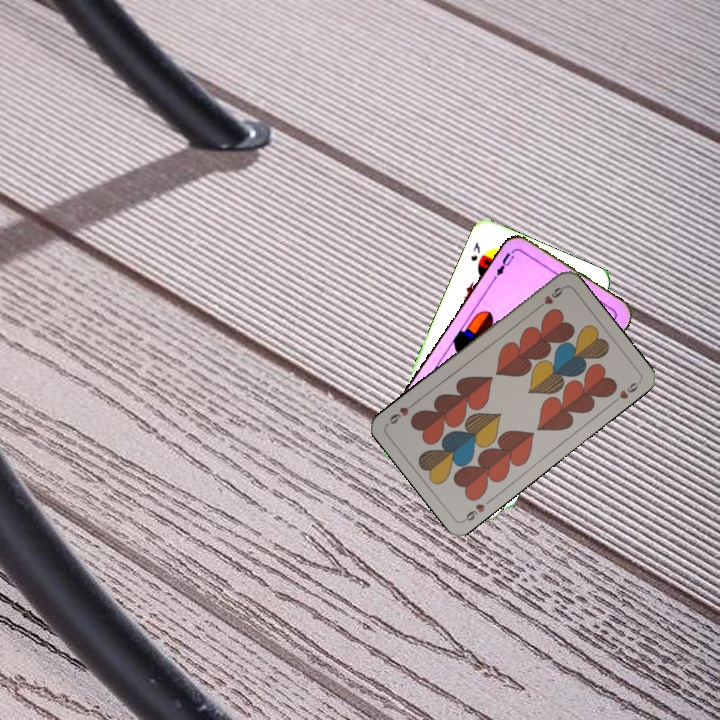EU: (490, 248, 517, 281)
H9: (533, 283, 567, 312), (460, 495, 494, 524)
SK: (467, 237, 483, 264)
